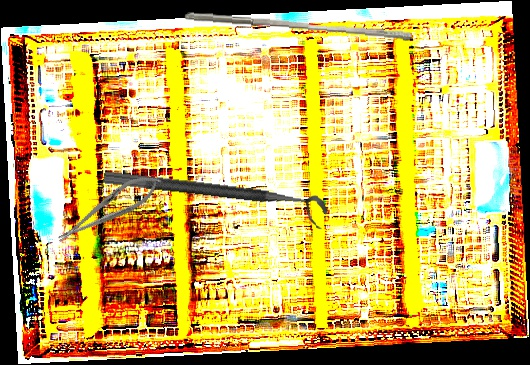Fixation Ring: (100, 169, 330, 231)
Needle Holder: (50, 165, 168, 252)
Pusher: (183, 12, 414, 41)
